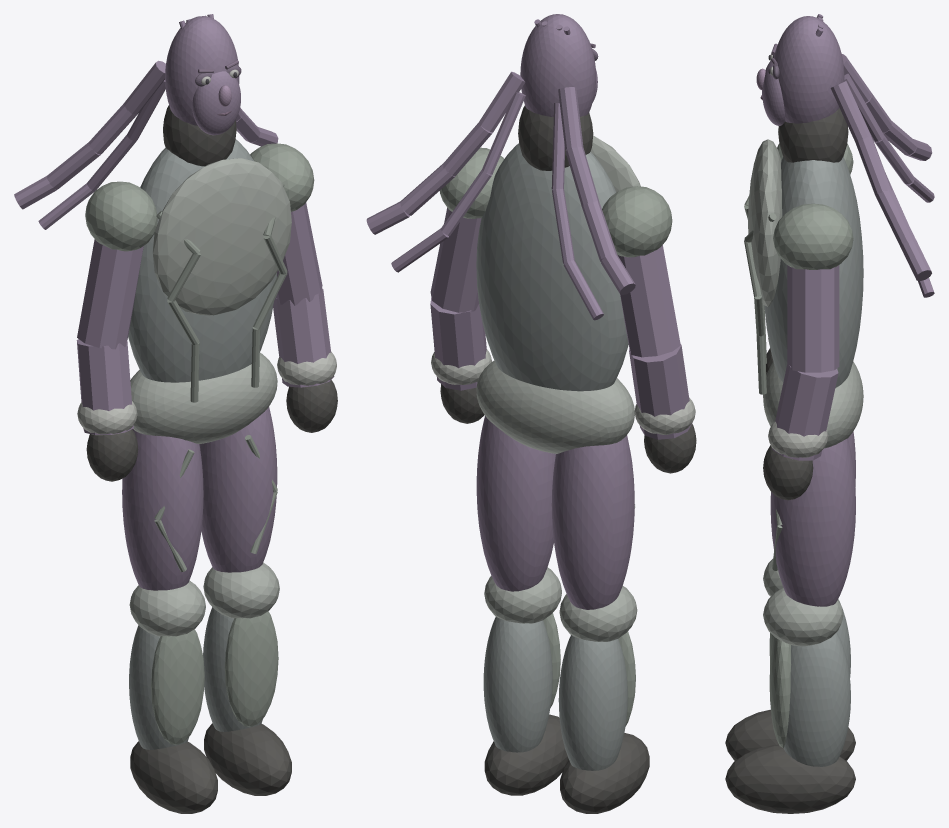
The model's file is mierese bocoqebu_face_test.glb.
3 views of the same model, side by side, from view 1: azimuth 30°, elevation 25°; view 2: azimuth 150°, elevation 25°; view 3: azimuth 270°, elevation 25° (orthographic).
Parts seen in each view (by area): view 1: chest_armor, torso, upper_leg_-1, upper_leg_1, arm_-1, hips, arm_1, shin_armor_-1, shin_armor_1, boot_-1, boot_1, head (+18 smaller); view 2: torso, upper_leg_-1, upper_leg_1, hips, arm_-1, lower_leg_1, lower_leg_-1, arm_1, head, boot_-1, head_tail_-1, head_tail_1 (+15 smaller); view 3: upper_leg_1, arm_1, torso, lower_leg_1, boot_1, head, shoulder_1, chest_armor, head_tail_1, knee_1, neck, hips (+10 smaller).
Boxes of the visible parts, bbox=[...] form: chest_armor: bbox=[152, 158, 291, 315]; torso: bbox=[128, 139, 276, 382]; upper_leg_-1: bbox=[122, 429, 203, 590]; upper_leg_1: bbox=[199, 407, 277, 572]; arm_-1: bbox=[76, 239, 143, 434]; hips: bbox=[130, 352, 277, 443]; arm_1: bbox=[273, 202, 334, 387]; shin_armor_-1: bbox=[151, 629, 204, 744]; shin_armor_1: bbox=[224, 611, 278, 726]; boot_-1: bbox=[130, 741, 217, 813]; boot_1: bbox=[204, 723, 291, 795]; head: bbox=[165, 16, 239, 125]; torso: bbox=[476, 143, 628, 391]; upper_leg_-1: bbox=[551, 435, 634, 609]; upper_leg_1: bbox=[476, 416, 555, 591]; hips: bbox=[476, 360, 634, 453]; arm_-1: bbox=[617, 245, 692, 439]; lower_leg_1: bbox=[483, 617, 552, 752]; lower_leg_-1: bbox=[558, 635, 627, 770]; arm_1: bbox=[430, 207, 486, 390]; head: bbox=[520, 14, 595, 116]; boot_-1: bbox=[560, 733, 649, 813]; head_tail_-1: bbox=[558, 87, 635, 294]; head_tail_1: bbox=[366, 71, 525, 234]; upper_leg_1: bbox=[770, 438, 855, 606]; arm_1: bbox=[772, 265, 839, 460]; torso: bbox=[764, 157, 863, 387]; lower_leg_1: bbox=[783, 632, 850, 766]; boot_1: bbox=[725, 744, 855, 813]; head: bbox=[774, 16, 844, 123]; shoulder_1: bbox=[773, 203, 853, 269]; chest_armor: bbox=[748, 139, 782, 306]; head_tail_1: bbox=[830, 81, 931, 280]; knee_1: bbox=[763, 588, 843, 646]; neck: bbox=[778, 108, 848, 162]; hips: bbox=[763, 361, 863, 448].
Bounding box in the file's own units: 0.602 × 1.7 × 0.4163.
